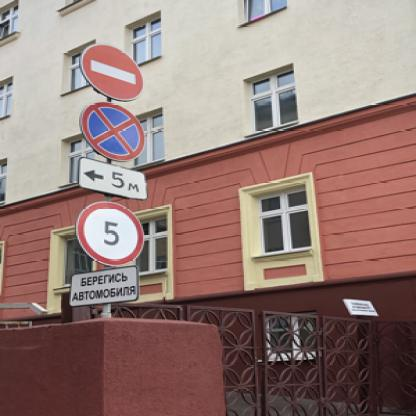speedlimit: (75, 200, 143, 264)
